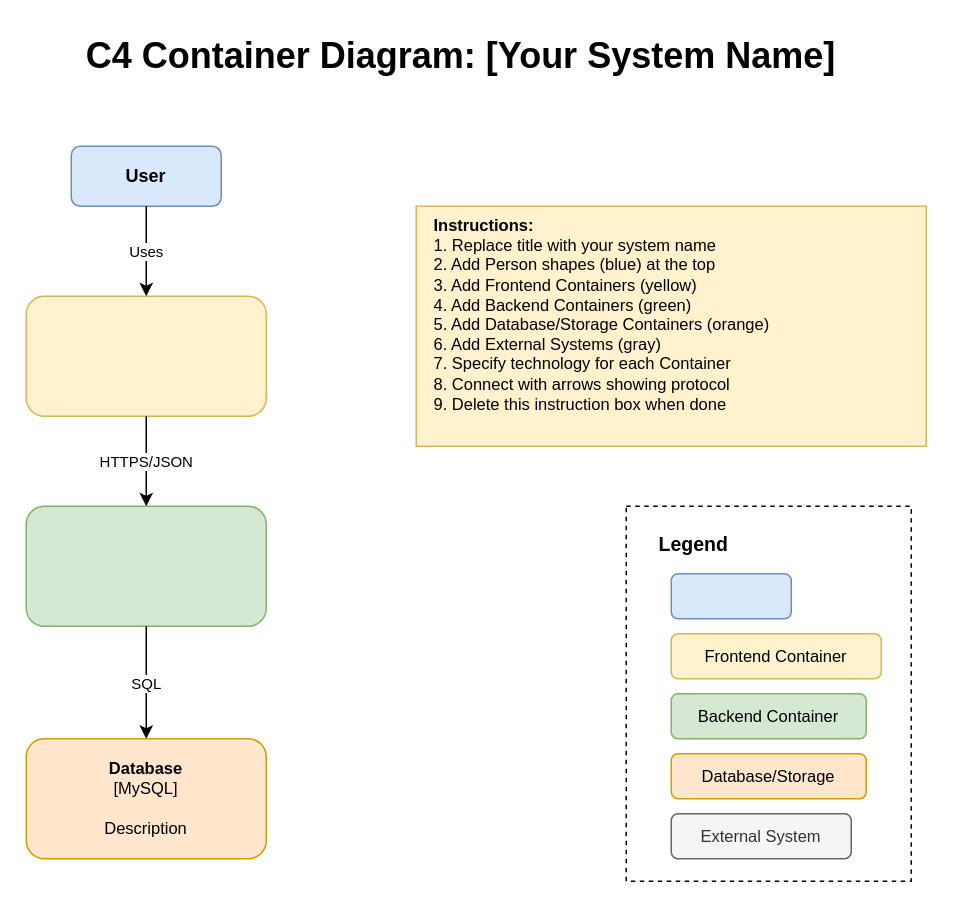
Image size: 953x908. Some labels were removed from this diagram. The box of each missing label's shape, as (x1, y1, x2, y2) in pixels:
Backend API [Node.js] Description: (25, 505, 266, 626)
Person: (670, 572, 791, 619)
Web App [React] Description: (25, 295, 266, 416)
